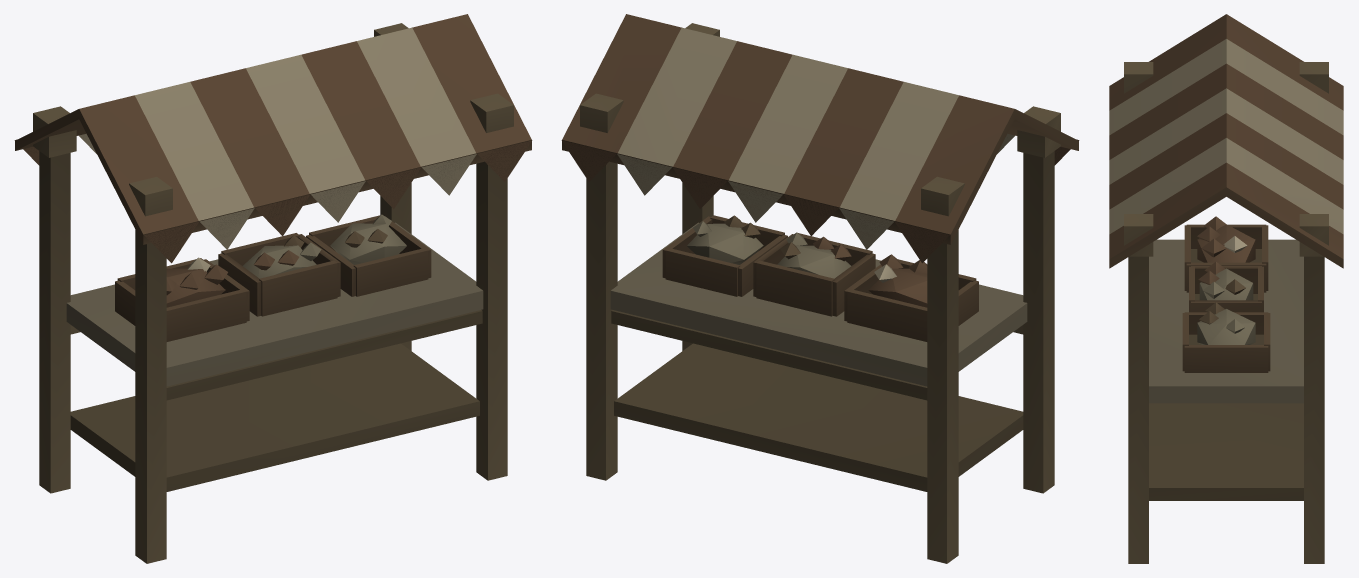
File: b_market_stall.glb
3 renders of one model, left to right at view 1: azimuth 30°, elevation 25°; view 2: azimuth 150°, elevation 25°; view 3: azimuth 270°, elevation 25°, orthographic. The views are drawn at different scales.
Visible parts, largest first — view 1: b_market_stall; view 2: b_market_stall; view 3: b_market_stall.
Part boxes in pixels (bbox=[...]): b_market_stall: bbox=[14, 14, 532, 563]; b_market_stall: bbox=[561, 14, 1079, 563]; b_market_stall: bbox=[1109, 14, 1343, 563].
Bounding box in the file's own units: 1.96 × 2.02 × 1.13.
